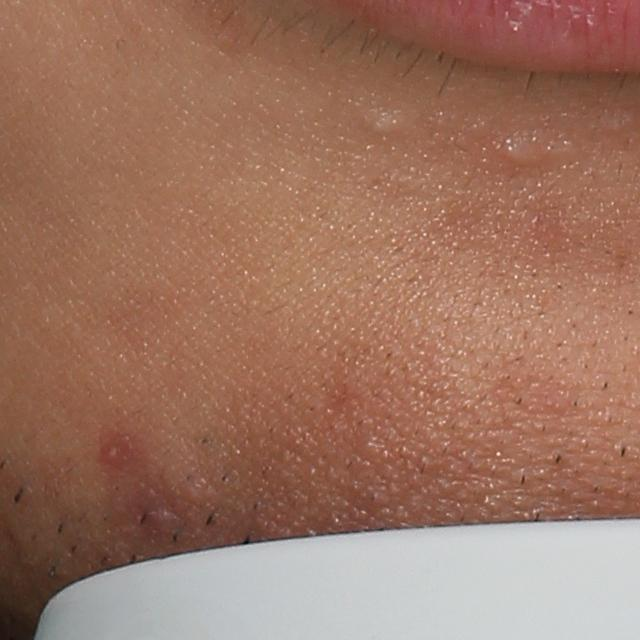hypertrophic_scar: (493, 132, 542, 174), (356, 103, 416, 136)
papule: (90, 427, 136, 474)
